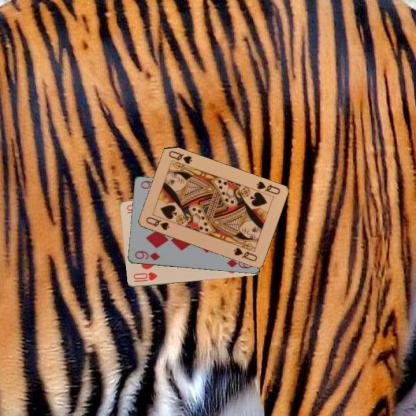10h: (131, 270, 158, 284)
9d: (132, 248, 161, 262)
Qs: (253, 178, 281, 196), (144, 214, 170, 232)
